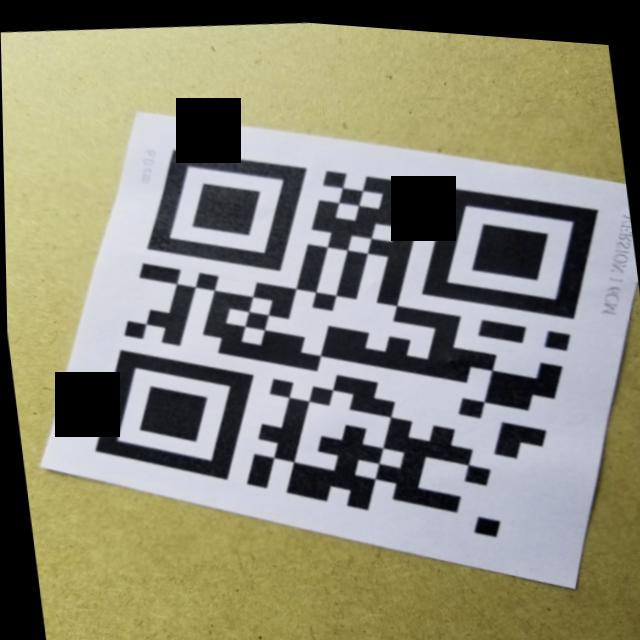QR_CODE: (31, 69, 640, 598)
